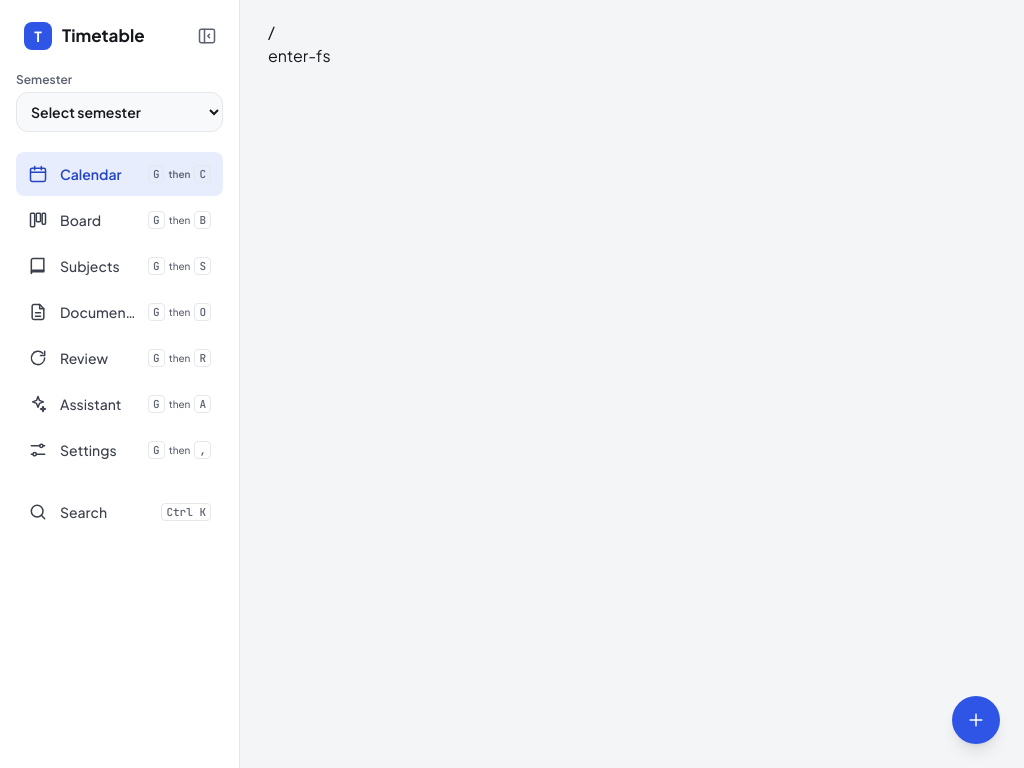
quick-action button › closes when clicking outside
The image size is (1024, 768).
Click the button named "Quick actions" at point(976, 720), box [952, 696, 1000, 744]
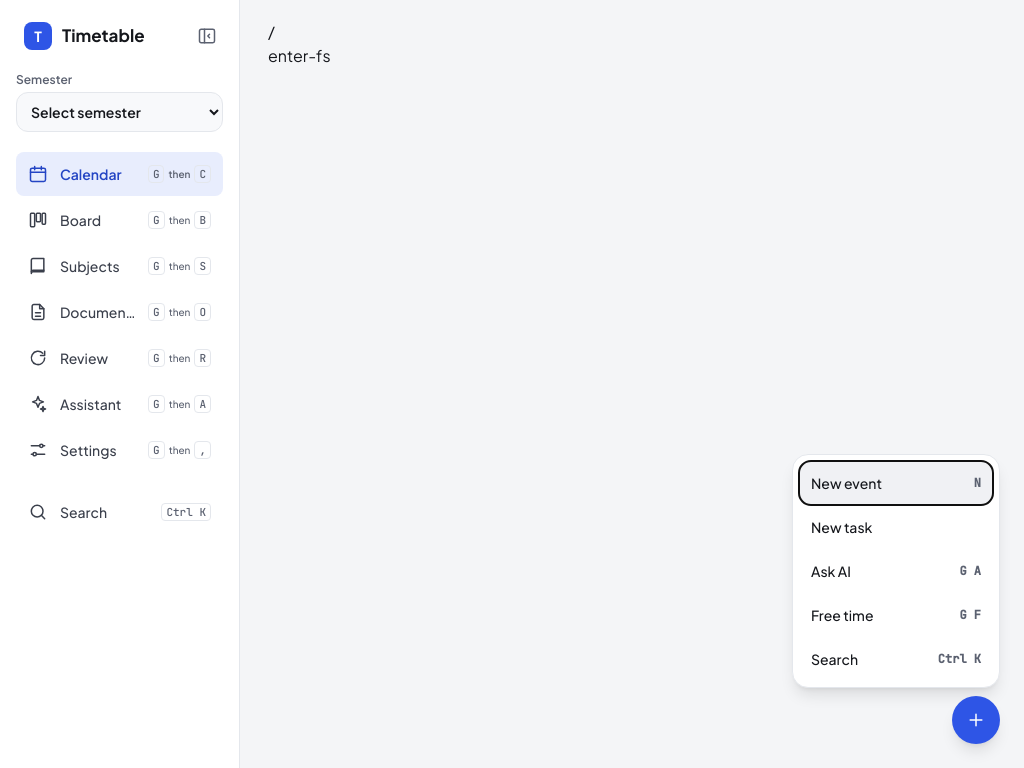
Click the element that starts with "Timetable" at point(512, 384), box [0, 0, 1023, 767]
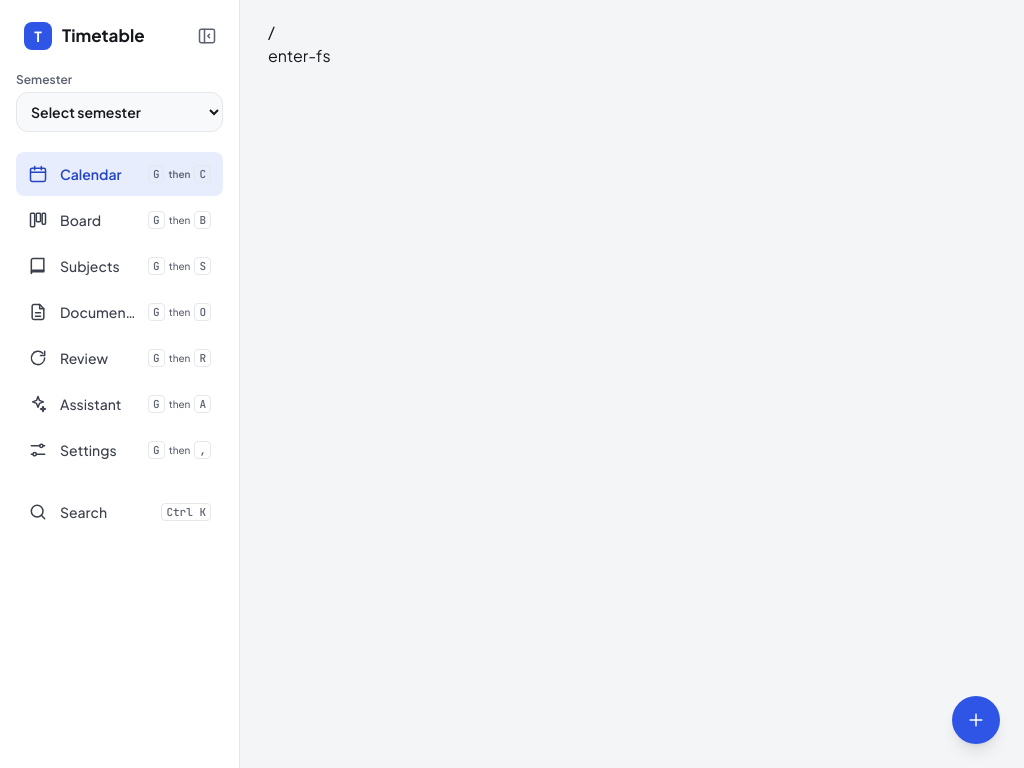
Now the menu is gone
